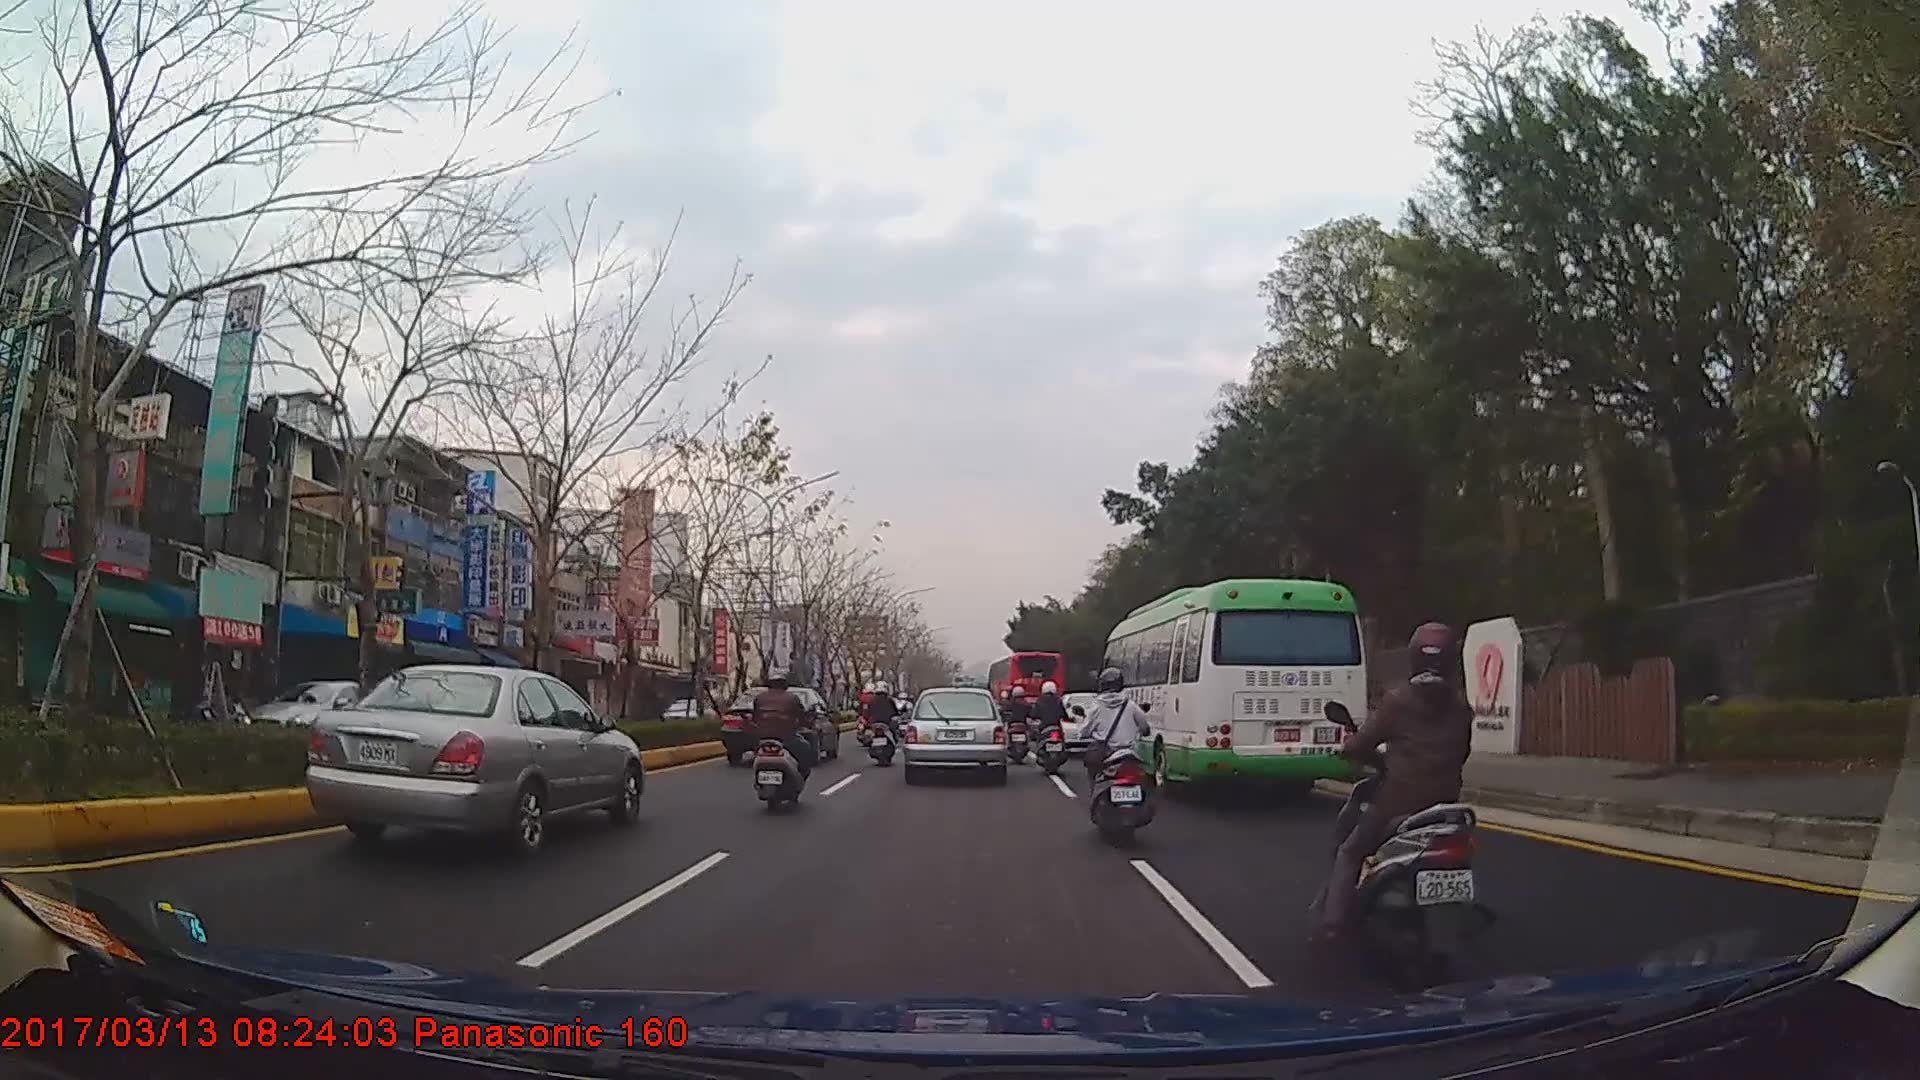rider: (1326, 614, 1497, 988), (1078, 664, 1154, 848), (747, 669, 816, 813), (1030, 680, 1069, 772), (862, 683, 902, 764), (1000, 682, 1034, 764), (860, 682, 881, 746), (894, 692, 916, 743)
vehicle: (301, 657, 641, 855), (1098, 576, 1369, 800), (236, 675, 421, 753), (904, 685, 1007, 784), (720, 683, 839, 764), (987, 650, 1063, 741)
